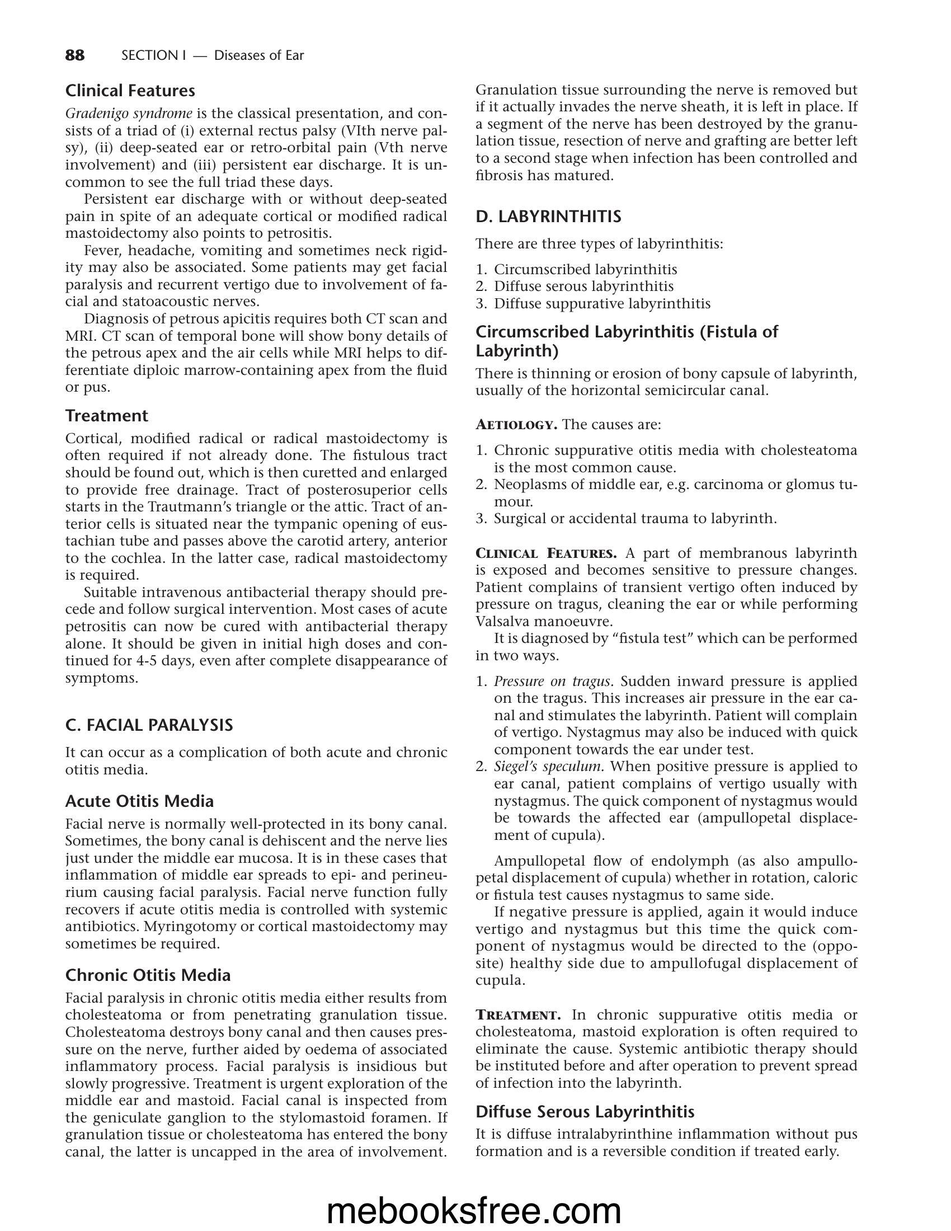header: (121, 49, 305, 61)
list: (473, 673, 857, 845), (474, 441, 858, 529), (474, 261, 713, 315)
sub-section-heading: (475, 323, 781, 364), (475, 1103, 695, 1122), (64, 966, 231, 982), (474, 207, 622, 225), (65, 717, 234, 732), (64, 793, 214, 808), (65, 82, 196, 97), (64, 407, 150, 424)
text: (64, 105, 449, 397), (64, 431, 448, 689), (473, 852, 859, 1092), (63, 990, 449, 1162), (64, 817, 448, 953), (473, 544, 859, 665), (474, 82, 860, 183), (475, 365, 858, 431), (475, 1127, 859, 1161), (65, 746, 448, 776), (473, 235, 724, 255)
